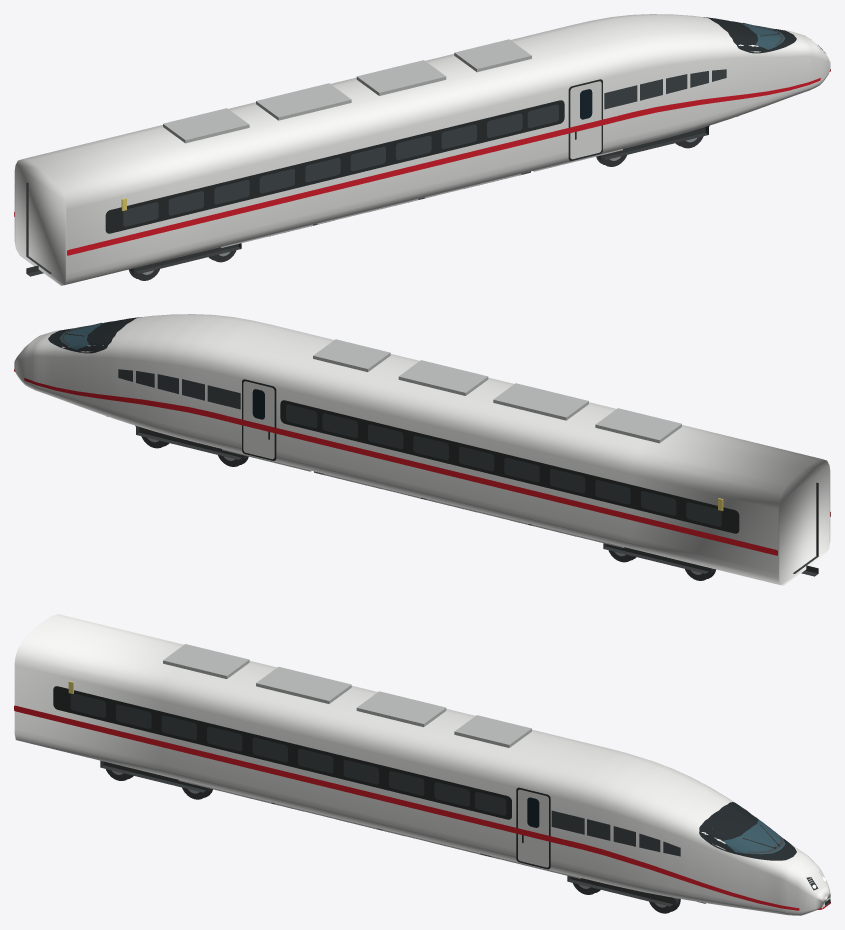
The model's file is ice3-br403-v2-unified-first-end-403-0.glb.
3 renders of one model, top to bottom at view 1: azimuth 30°, elevation 25°; view 2: azimuth 150°, elevation 25°; view 3: azimuth 330°, elevation 25°, orthographic.
Parts seen in each view (by area): view 1: ice3_v2_reference_calibrated_cab_shell, ice3_continuity_403_0_continuous_black_glazing_band_-1, ice3_continuity_403_0_shared_red_body_stripe_-1, ice3_v2_roof_fairing_1, ice3_v2_roof_fairing_2, ice3_continuity_403_0_door_leaf_-1, ice3_v2_roof_fairing_0, ice3_v2_roof_fairing_3, ice3_v2_panorama_windscreen_seal, ice3_continuity_integrated_nose_stripe_-1, ice3_v2_end_car_bogie_1_sideframe_-1, ice3_v2_end_car_bogie_0_sideframe_-1 (+12 smaller); view 2: ice3_v2_reference_calibrated_cab_shell, ice3_continuity_403_0_continuous_black_glazing_band_1, ice3_continuity_403_0_shared_red_body_stripe_1, ice3_v2_roof_fairing_1, ice3_v2_roof_fairing_2, ice3_continuity_403_0_door_leaf_1, ice3_v2_roof_fairing_0, ice3_v2_roof_fairing_3, ice3_v2_end_car_bogie_1, ice3_v2_end_car_bogie_0, ice3_v2_panorama_windscreen_seal, ice3_continuity_integrated_nose_stripe_1 (+12 smaller); view 3: ice3_v2_reference_calibrated_cab_shell, ice3_continuity_403_0_continuous_black_glazing_band_-1, ice3_continuity_403_0_shared_red_body_stripe_-1, ice3_v2_panorama_windscreen_seal, ice3_v2_roof_fairing_1, ice3_v2_roof_fairing_2, ice3_continuity_403_0_door_leaf_-1, ice3_v2_roof_fairing_0, ice3_v2_roof_fairing_3, ice3_continuity_integrated_nose_stripe_-1, ice3_v2_panorama_windscreen_glass, ice3_v2_end_car_bogie_1_sideframe_-1 (+12 smaller).
Boxes of the visible parts, x1,y1,x2,y2 form: ice3_v2_reference_calibrated_cab_shell: (14, 14, 830, 285); ice3_continuity_403_0_continuous_black_glazing_band_-1: (105, 100, 564, 233); ice3_continuity_403_0_shared_red_body_stripe_-1: (67, 116, 617, 255); ice3_v2_roof_fairing_1: (256, 83, 351, 120); ice3_v2_roof_fairing_2: (356, 60, 446, 95); ice3_continuity_403_0_door_leaf_-1: (570, 81, 601, 159); ice3_v2_roof_fairing_0: (163, 108, 249, 143); ice3_v2_roof_fairing_3: (454, 39, 531, 72); ice3_v2_panorama_windscreen_seal: (704, 17, 796, 53); ice3_continuity_integrated_nose_stripe_-1: (617, 70, 830, 121); ice3_v2_end_car_bogie_1_sideframe_-1: (603, 126, 708, 159); ice3_v2_end_car_bogie_0_sideframe_-1: (136, 243, 241, 273); ice3_v2_reference_calibrated_cab_shell: (14, 314, 830, 585); ice3_continuity_403_0_continuous_black_glazing_band_1: (280, 400, 739, 533); ice3_continuity_403_0_shared_red_body_stripe_1: (227, 416, 777, 555); ice3_v2_roof_fairing_1: (493, 383, 588, 420); ice3_v2_roof_fairing_2: (398, 360, 488, 395); ice3_continuity_403_0_door_leaf_1: (243, 381, 274, 459); ice3_v2_roof_fairing_0: (595, 408, 681, 443); ice3_v2_roof_fairing_3: (313, 339, 390, 372); ice3_v2_end_car_bogie_1: (136, 426, 248, 466); ice3_v2_end_car_bogie_0: (603, 543, 715, 580); ice3_v2_panorama_windscreen_seal: (48, 317, 140, 353); ice3_continuity_integrated_nose_stripe_1: (14, 370, 227, 421); ice3_v2_reference_calibrated_cab_shell: (14, 614, 830, 915); ice3_continuity_403_0_continuous_black_glazing_band_-1: (53, 686, 511, 819); ice3_continuity_403_0_shared_red_body_stripe_-1: (14, 705, 564, 844); ice3_v2_panorama_windscreen_seal: (699, 802, 796, 860); ice3_v2_roof_fairing_1: (256, 666, 351, 703); ice3_v2_roof_fairing_2: (356, 691, 446, 727); ice3_continuity_403_0_door_leaf_-1: (518, 789, 548, 867); ice3_v2_roof_fairing_0: (163, 644, 249, 678); ice3_v2_roof_fairing_3: (454, 715, 531, 747); ice3_continuity_integrated_nose_stripe_-1: (564, 839, 821, 910); ice3_v2_panorama_windscreen_glass: (723, 817, 785, 854); ice3_v2_end_car_bogie_1_sideframe_-1: (567, 876, 673, 906).
Bounding box in the file's own units: 26.21 × 4.04 × 3.05.
